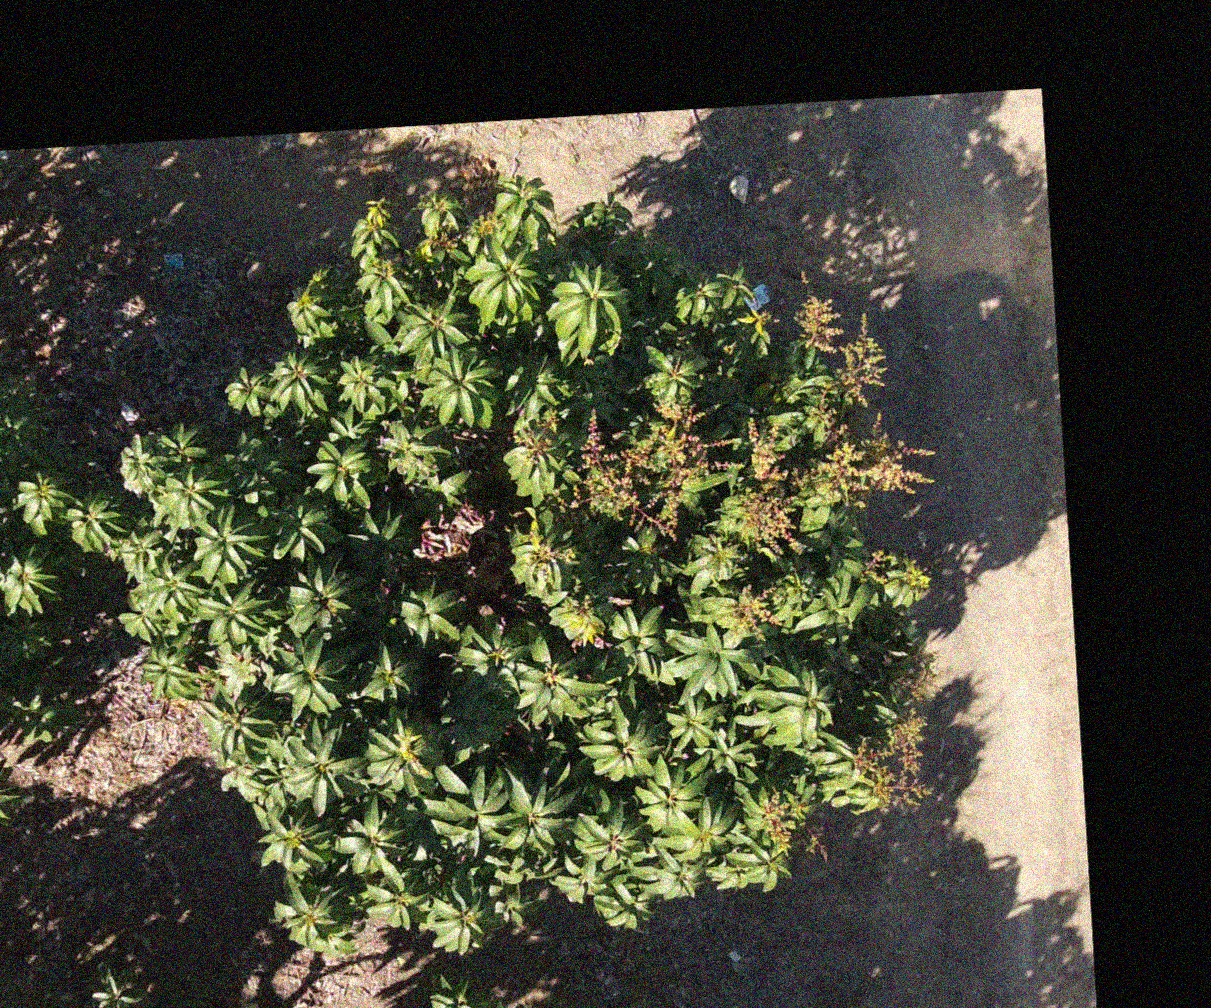flowers: (732, 414, 933, 550), (572, 404, 732, 539), (736, 416, 795, 554), (854, 712, 928, 808), (838, 313, 884, 405), (794, 291, 841, 354), (732, 586, 775, 635), (862, 549, 892, 586), (470, 212, 497, 234)
